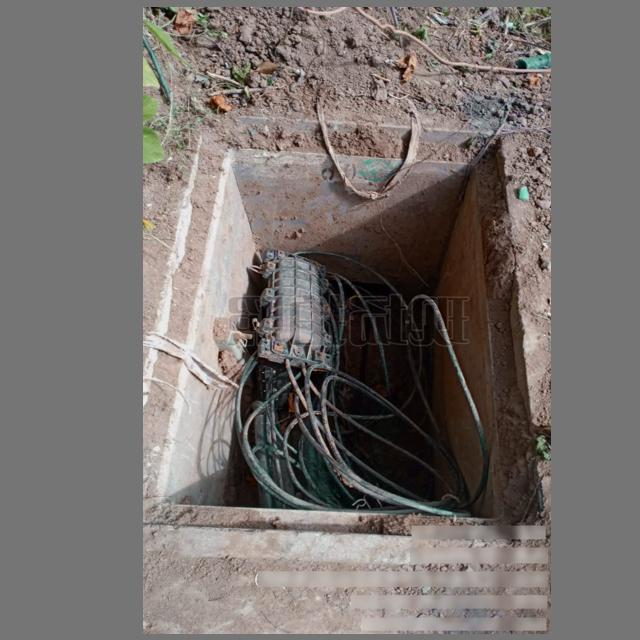lose: (150, 98, 539, 551)
